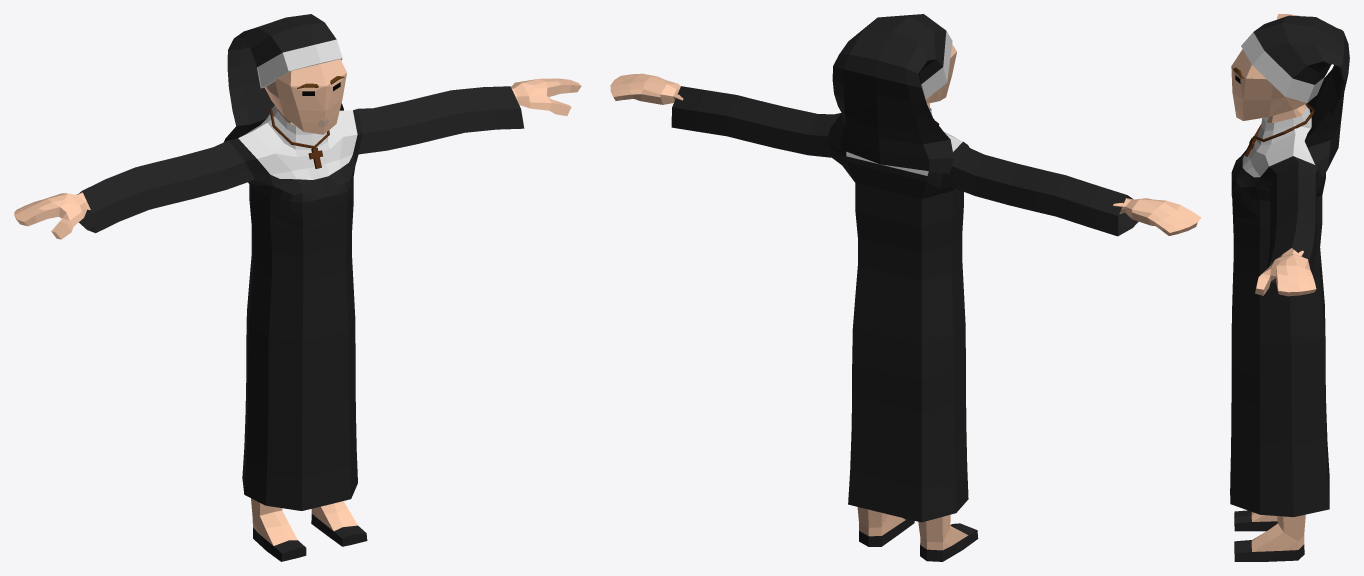
File: MonjaNPC.fbx
3 views of the same model, side by side, from view 1: azimuth 30°, elevation 25°; view 2: azimuth 150°, elevation 25°; view 3: azimuth 270°, elevation 25° (orthographic). The views are drawn at different scales.
Parts seen in each view (by area): view 1: Tunica; view 2: Tunica; view 3: Tunica.
Part boxes in pixels (x1=…): Tunica: x1=14, y1=14, x2=581, y2=561; Tunica: x1=610, y1=14, x2=1201, y2=561; Tunica: x1=1230, y1=14, x2=1349, y2=561.
Bounding box in the file's own units: 215 × 186 × 39.11.
